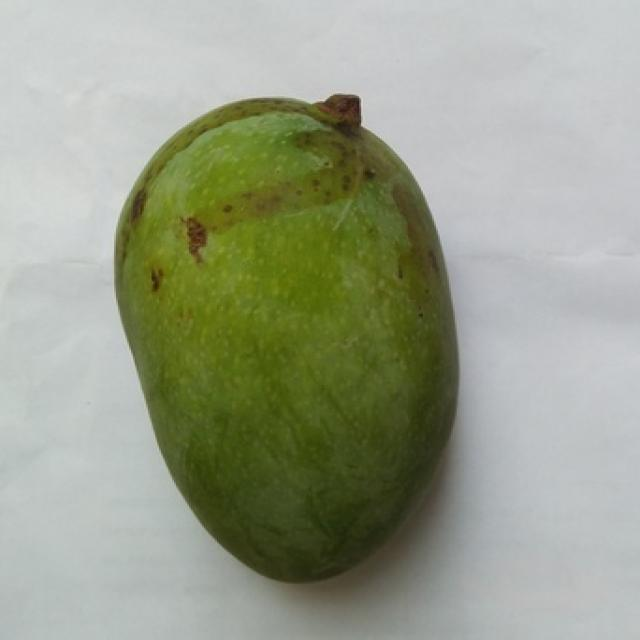Mango: (114, 95, 457, 581)
